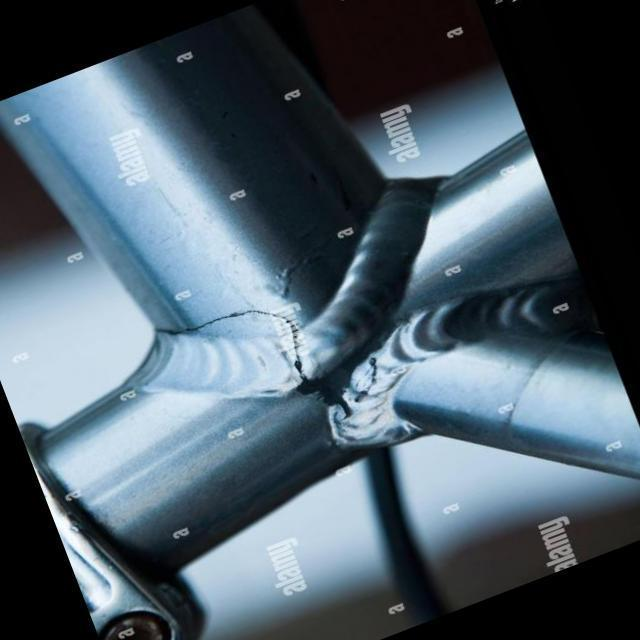defect: (143, 305, 309, 382), (350, 349, 384, 405)
